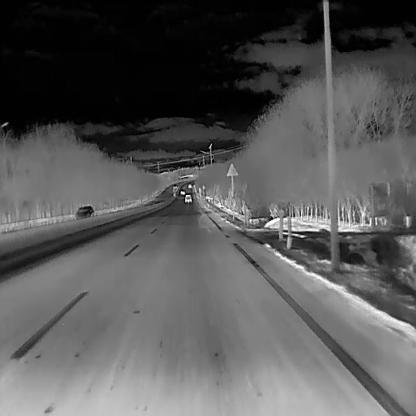car: (73, 206, 93, 220), (185, 194, 191, 202)
